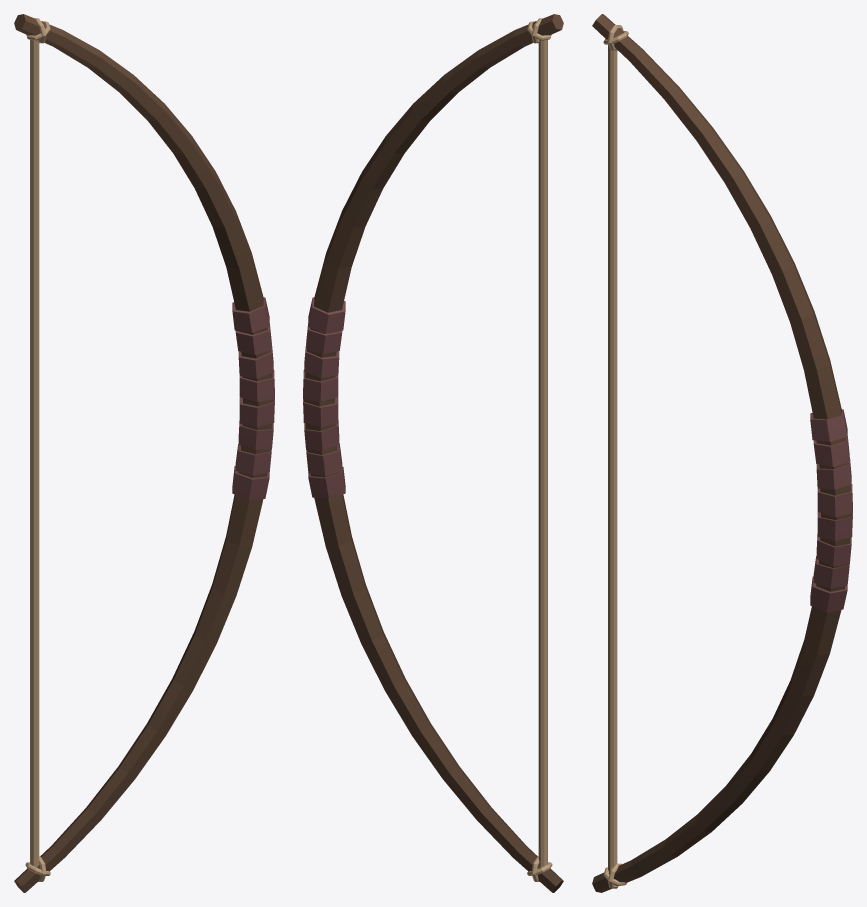
File: arco.glb
3 renders of one model, left to right at view 1: azimuth 30°, elevation 25°; view 2: azimuth 150°, elevation 25°; view 3: azimuth 330°, elevation 25°, orthographic.
Parts seen in each view (by area): view 1: arco; view 2: arco; view 3: arco.
Boxes of the visible parts, <box> form: arco: <box>14,14,274,892</box>; arco: <box>303,14,563,892</box>; arco: <box>592,14,852,892</box>.
Size of the model in its own units: 0.3083 by 1 by 0.0364.
Materials: 1 (1 with a texture image).
